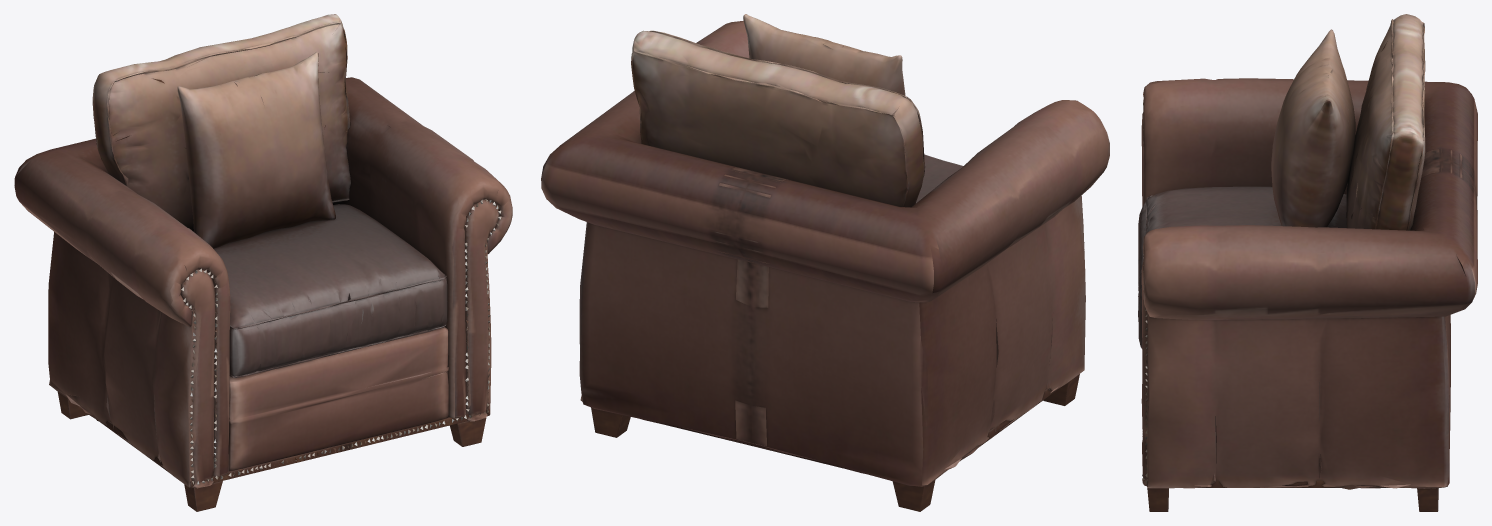
The model's file is raw_model.obj.
The picture shows the model from 3 angles, left to right: view 1: azimuth 30°, elevation 25°; view 2: azimuth 150°, elevation 25°; view 3: azimuth 270°, elevation 25°; orthographic projection. The views are drawn at different scales.
Parts seen in each view (by area): view 1: solid_004, solid_002, solid_001, solid_003, solid_005; view 2: solid_004, solid_002, solid_003, solid_001; view 3: solid_004, solid_002, solid_001, solid_003.
Part boxes in pixels (<box>): solid_004: <box>14,77,512,488</box>; solid_002: <box>92,14,350,248</box>; solid_001: <box>213,204,447,377</box>; solid_003: <box>57,392,489,511</box>; solid_005: <box>181,199,501,484</box>; solid_004: <box>541,20,1109,486</box>; solid_002: <box>631,14,925,207</box>; solid_003: <box>591,374,1079,511</box>; solid_001: <box>916,154,963,203</box>; solid_004: <box>1141,78,1477,489</box>; solid_002: <box>1271,14,1425,230</box>; solid_001: <box>1138,186,1346,348</box>; solid_003: <box>1147,479,1438,511</box>.
Bounding box in the file's own units: 1.19 × 1.12 × 0.9264.
Materials: 1 (1 with a texture image).
